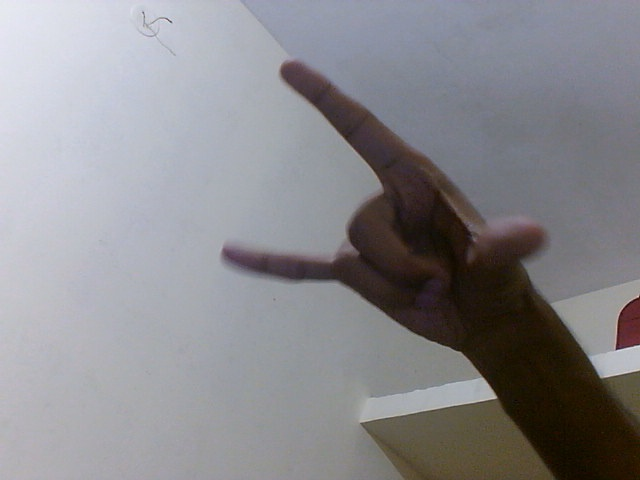hand: (217, 56, 551, 362)
